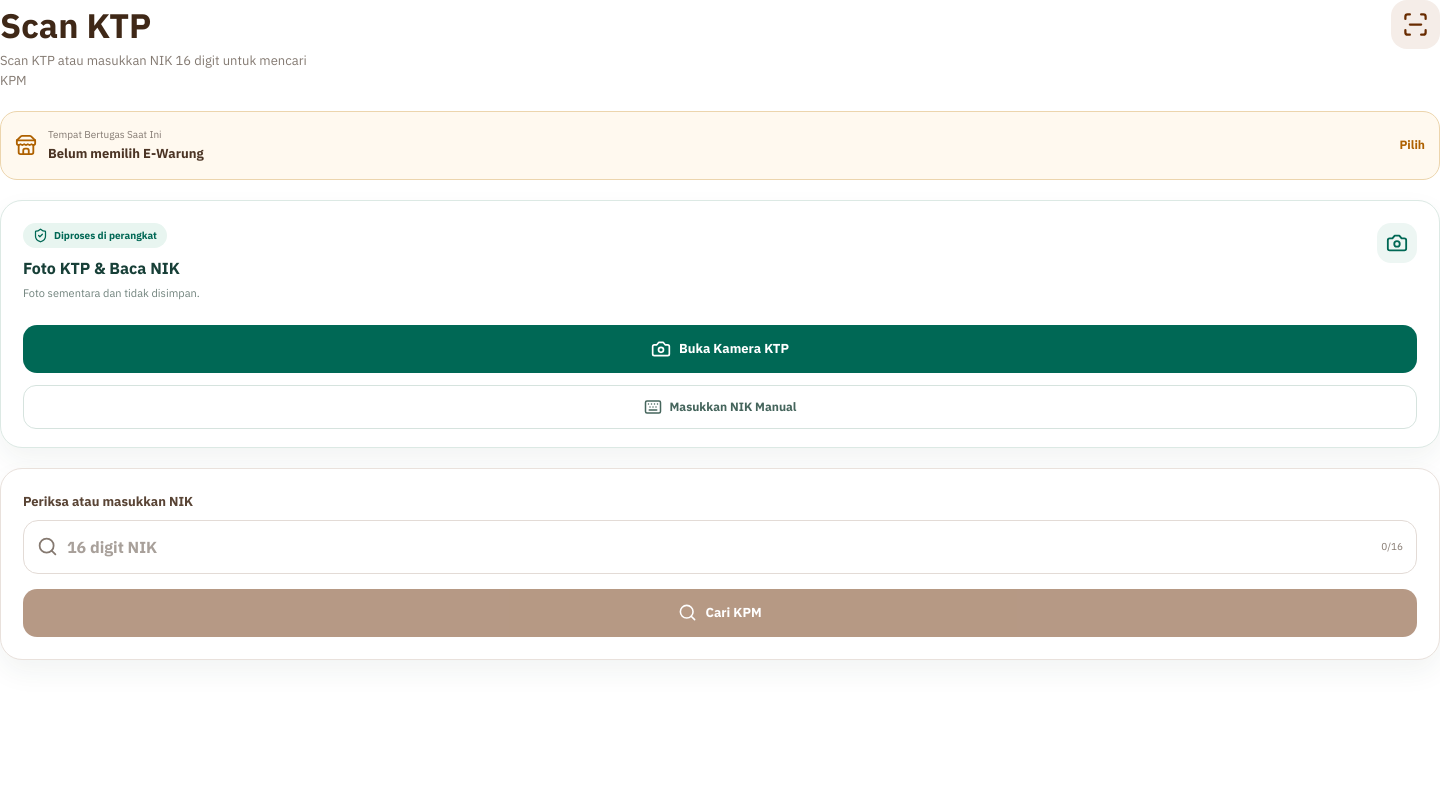
Surveyor Exact NIK Lookup › allows cross-region KPM result without blocking it
Type "3576010101010001" into the field with test id "nik-input". click: (720, 547)
box: [67,535,1372,559]
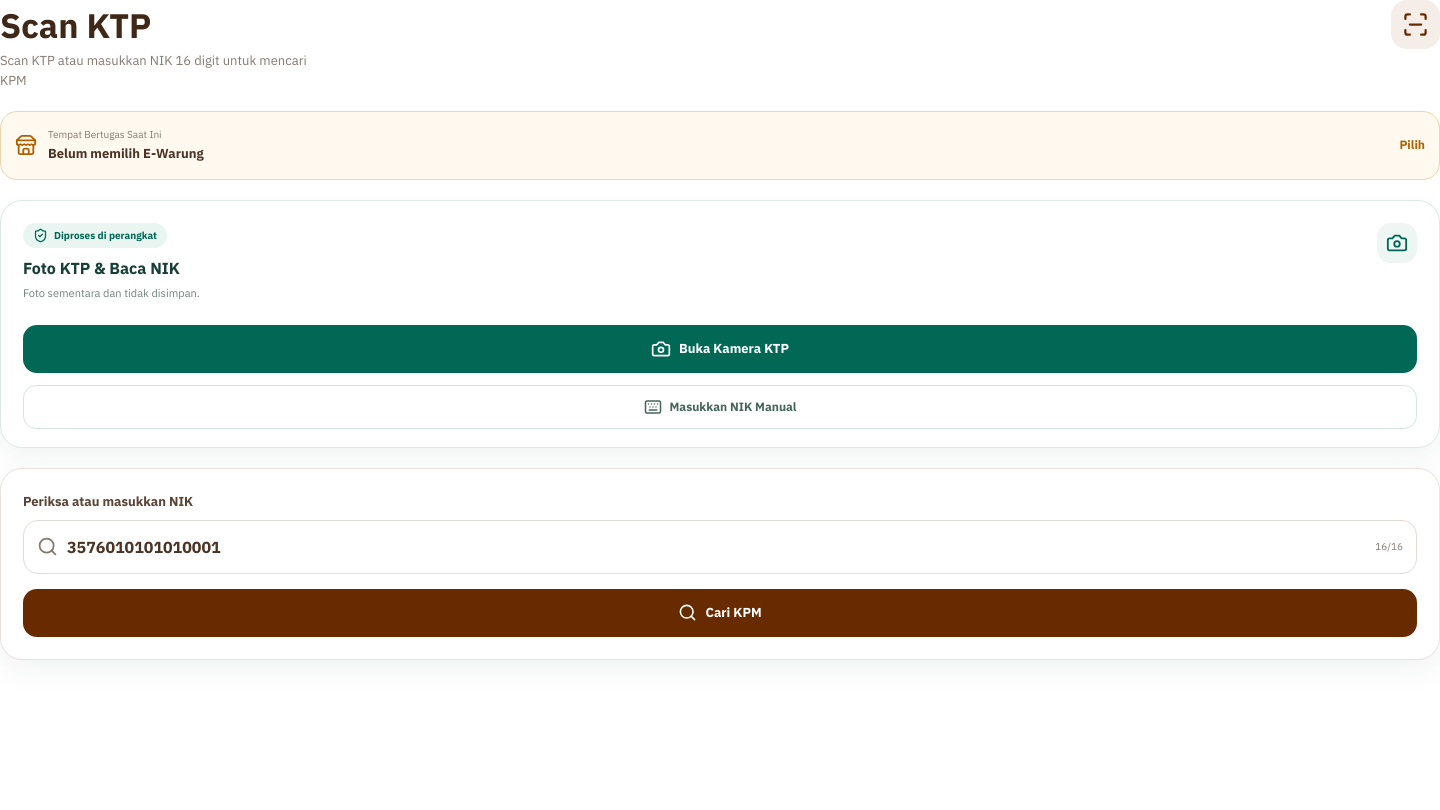
Submit the form, box [23,491,1417,637]
(page scrolled)
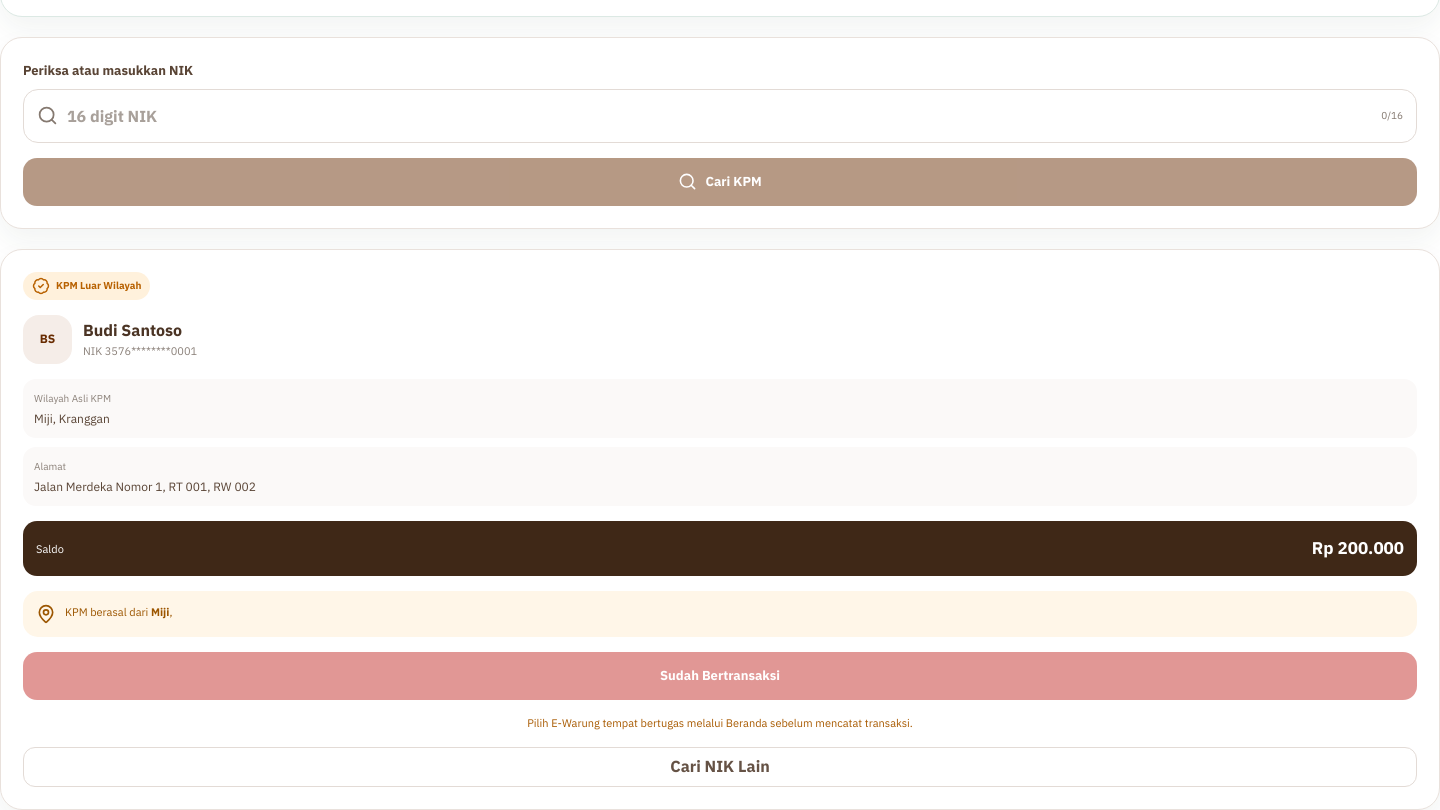
Now the text "KPM Luar Wilayah" is shown, box [23,272,150,300]
Now the text "Miji" is shown, box [34,411,110,426]
Now the element with test id "outside-assignment-notice" is shown, box [23,591,1417,637]
